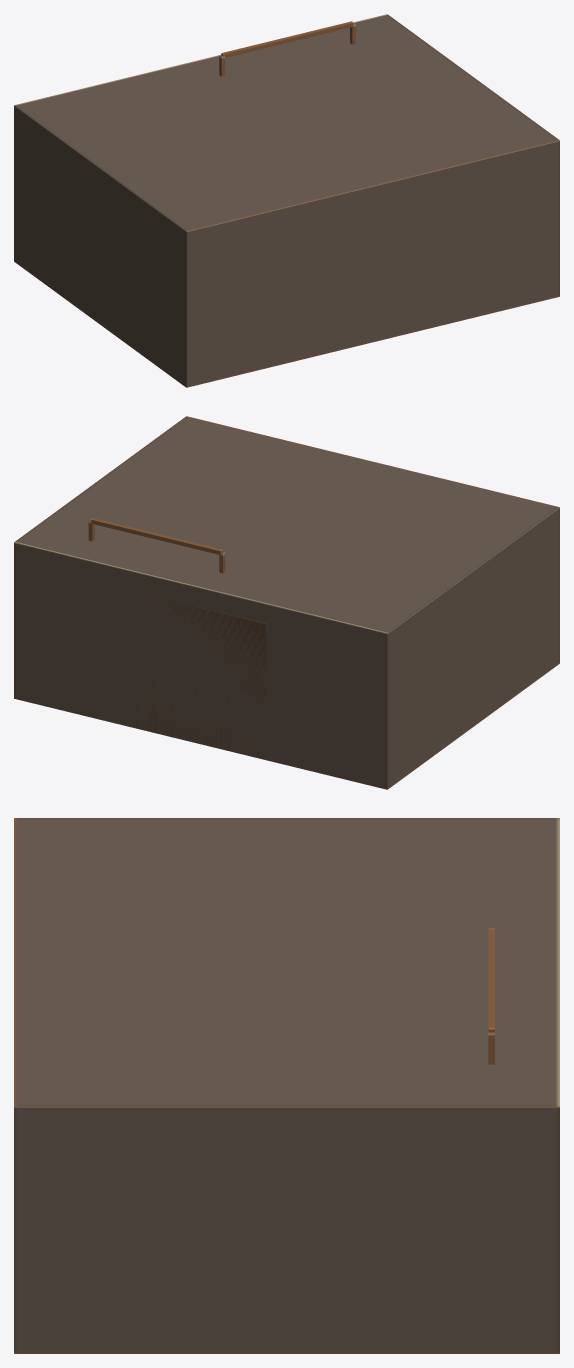
File: GoldMine.fbx
3 views of the same model, one above another, from view 1: azimuth 30°, elevation 25°; view 2: azimuth 150°, elevation 25°; view 3: azimuth 270°, elevation 25° (orthographic). The views are drawn at different scales.
Visible parts, largest first — view 1: GoldMine; view 2: GoldMine; view 3: GoldMine.
Part boxes in pixels (x1,y1,x2,y2): GoldMine: (14, 14, 559, 387); GoldMine: (14, 416, 559, 789); GoldMine: (14, 818, 559, 1353).
Bounding box in the file's own units: 200 × 91 × 160.
1 material, 1 textured.
